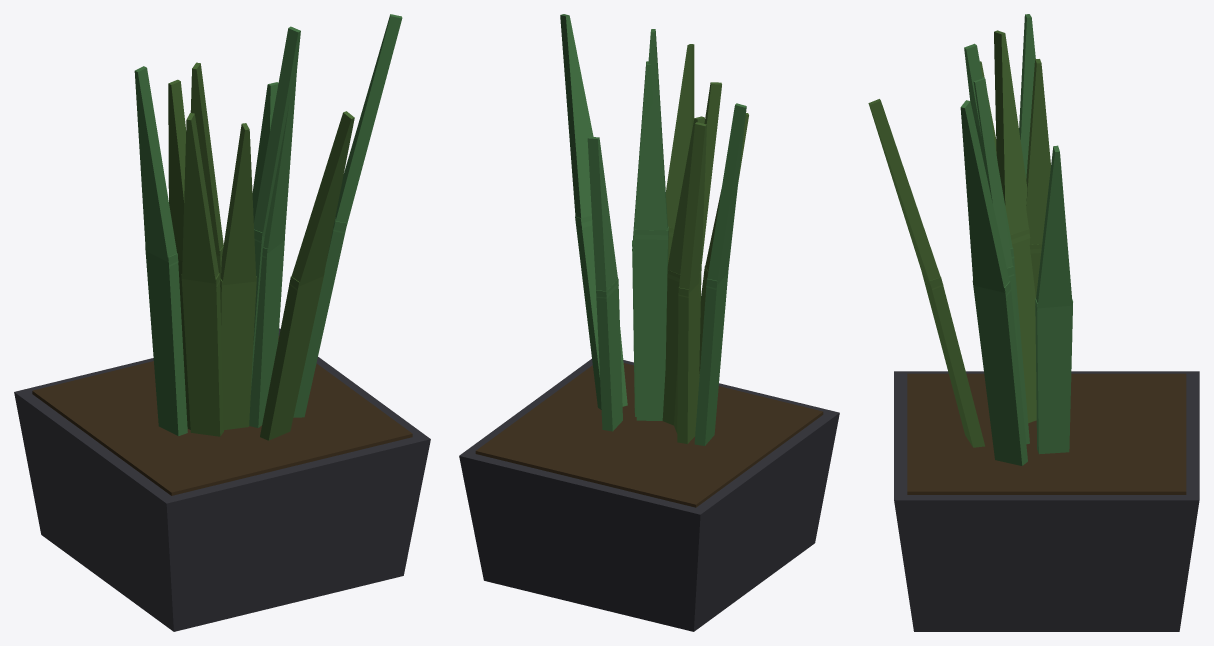
Rendered from potted-plant-05.glb.
The picture shows the model from 3 angles, left to right: view 1: azimuth 30°, elevation 25°; view 2: azimuth 150°, elevation 25°; view 3: azimuth 270°, elevation 25°; orthographic projection. The views are drawn at different scales.
Visible parts, largest first — view 1: potted_plant_05; view 2: potted_plant_05; view 3: potted_plant_05.
Boxes of the visible parts, x1,y1,x2,y2 form: potted_plant_05: (14,14,430,631); potted_plant_05: (459,14,839,631); potted_plant_05: (868,14,1199,631).
Size of the model in its own units: 0.5152 by 0.9928 by 0.5449.
